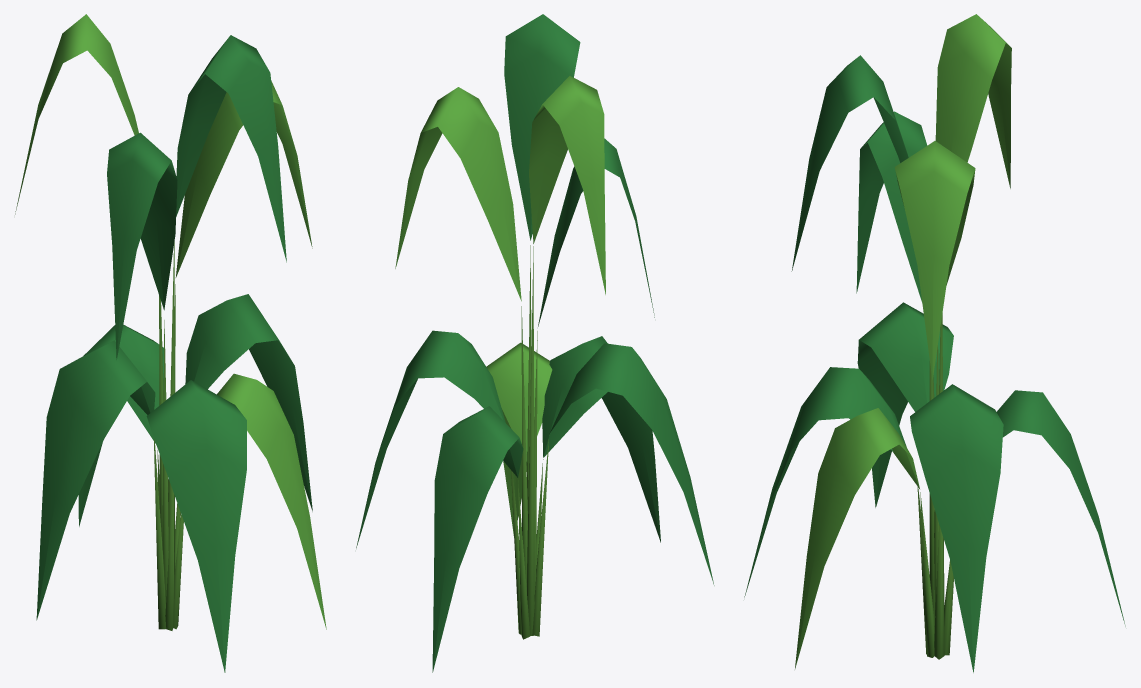
File: plant_ginger-a.glb
3 renders of one model, left to right at view 1: azimuth 30°, elevation 25°; view 2: azimuth 150°, elevation 25°; view 3: azimuth 270°, elevation 25°, orthographic. The views are drawn at different scales.
Parts seen in each view (by area): view 1: plant_ginger-a; view 2: plant_ginger-a; view 3: plant_ginger-a.
Part boxes in pixels (x1=…): plant_ginger-a: x1=15, y1=14, x2=326, y2=672; plant_ginger-a: x1=356, y1=14, x2=714, y2=672; plant_ginger-a: x1=744, y1=14, x2=1125, y2=672.
Size of the model in its own units: 0.3754 by 0.677 by 0.3842.
